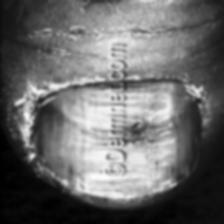Toxin: (40, 76, 202, 198)
